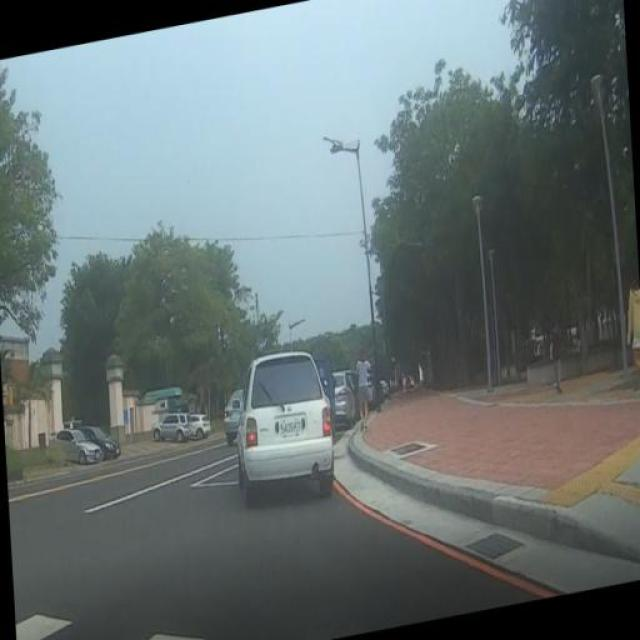Legalparking: (220, 342, 356, 530)
